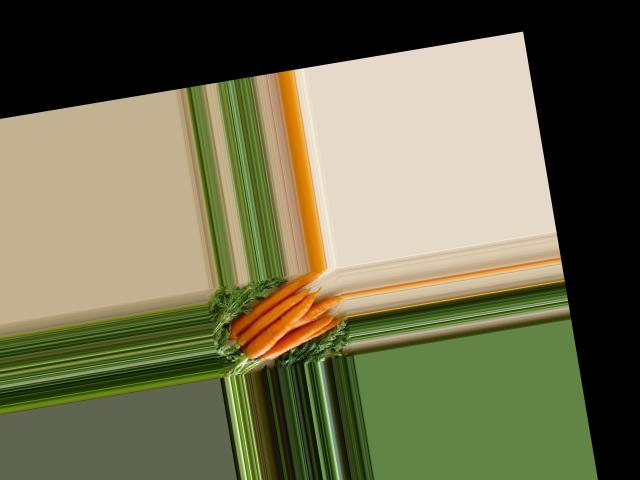carrot: (214, 268, 333, 340)
